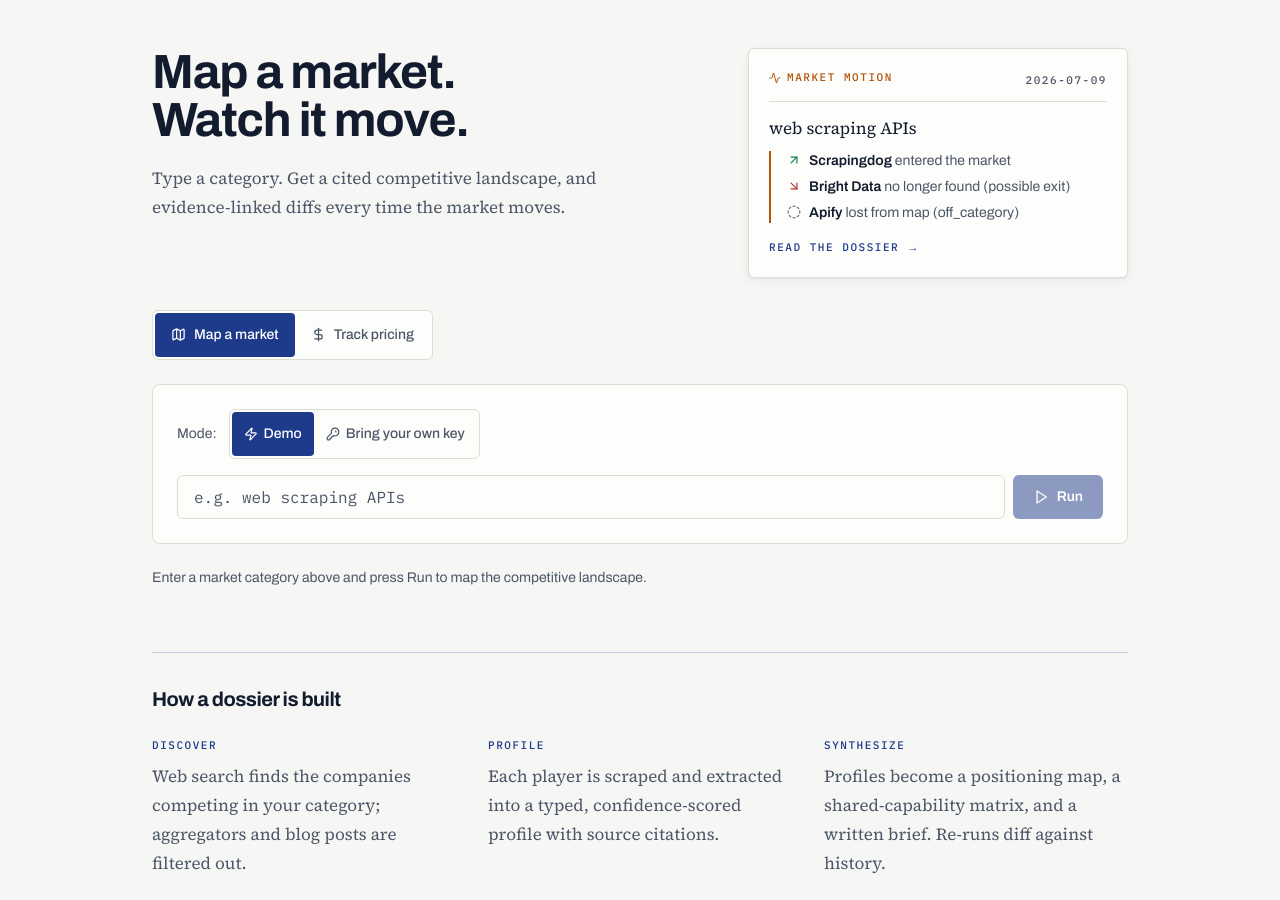
Test case: Page — Map a market mode › shows cap message and BYO/context.dev CTA on 429 demo_cap_reached
Type "web scraping APIs" into the field with placeholder "e.g. web scraping APIs".
click(591, 497); type("web scraping APIs")  # box [177,475,1005,519]
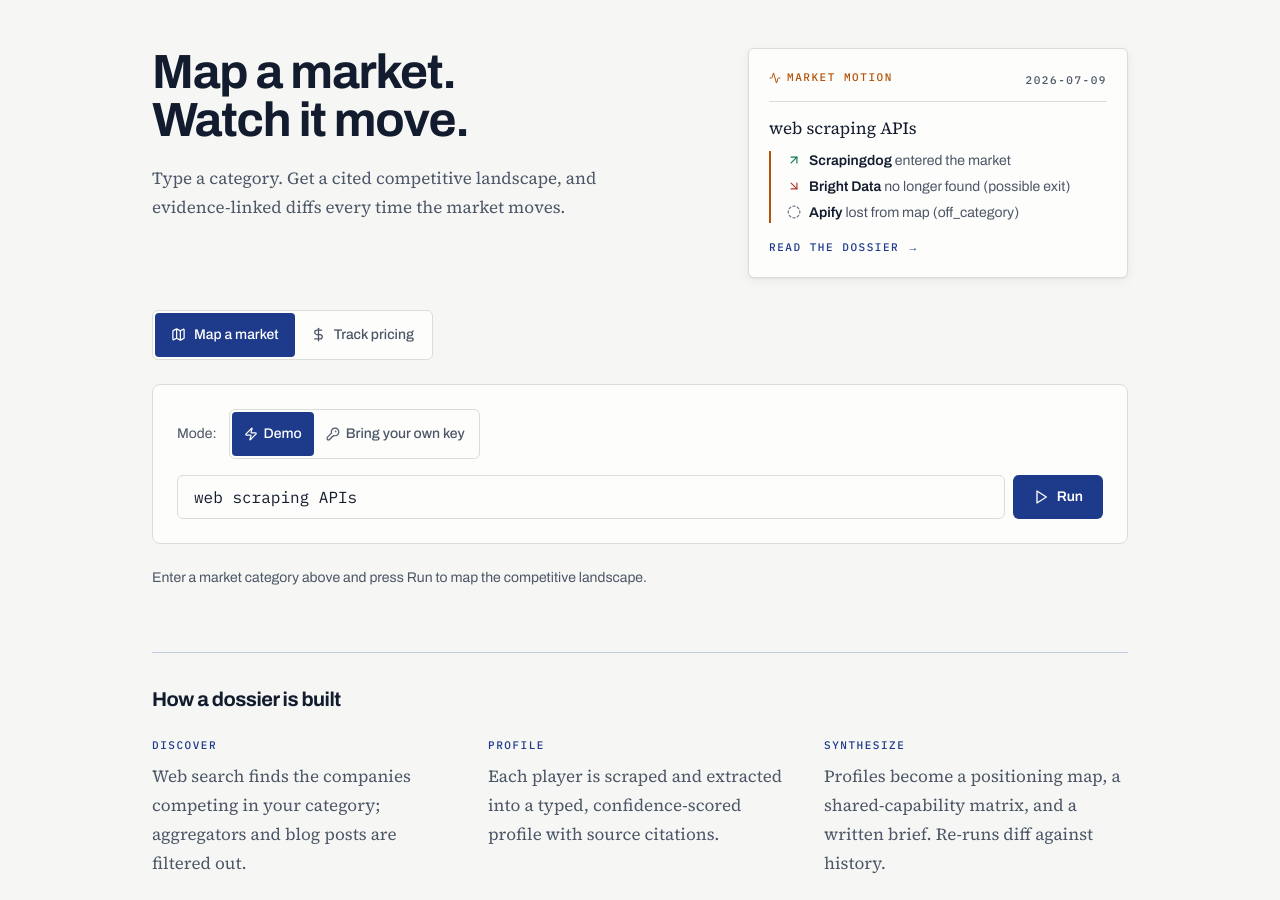
Click the button "Run".
click(1058, 497)  # box [1013,475,1103,519]
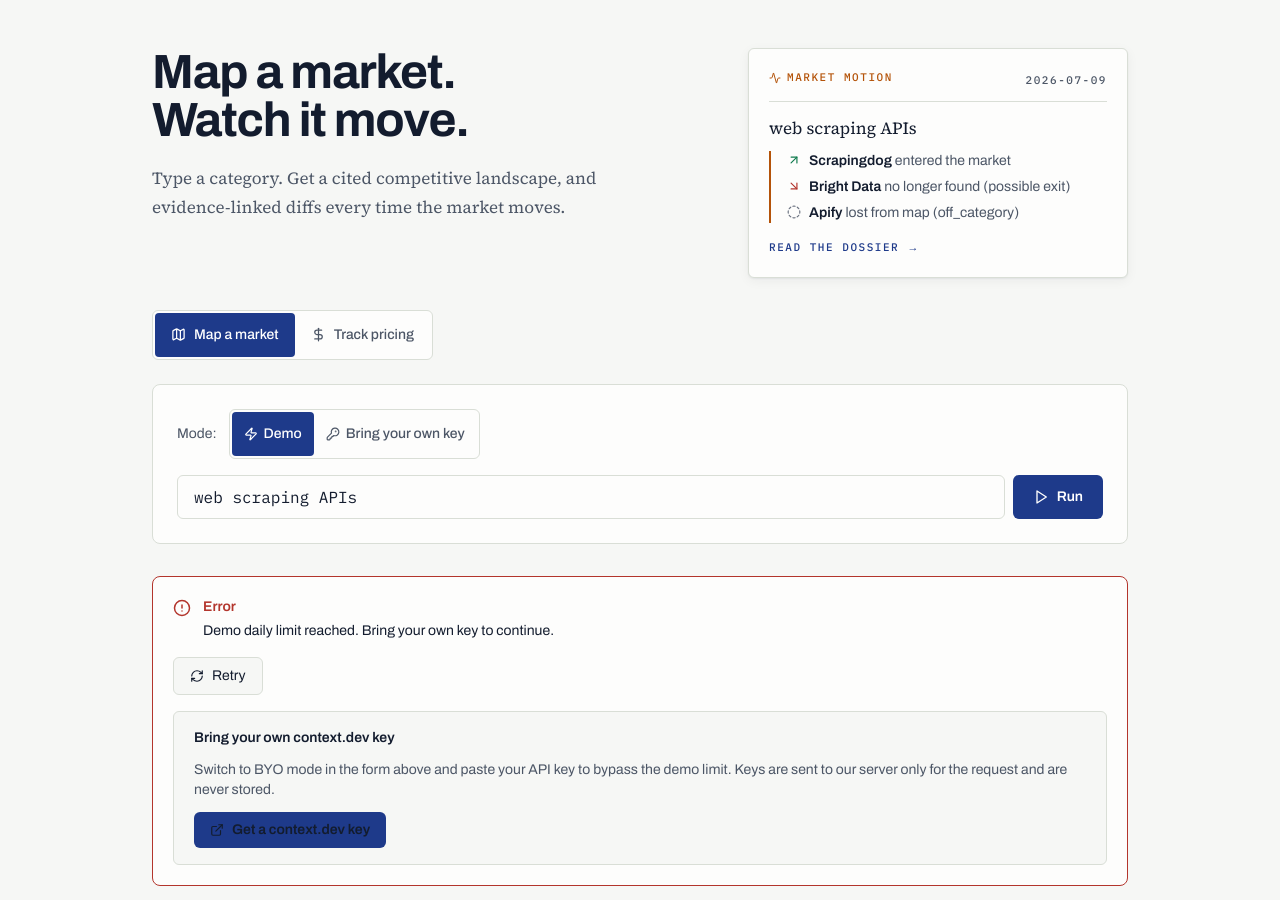
Check: the message is shown, box [152,576,1128,886]
Check: the text "Demo daily limit reached. Bring your own key to continue." is shown, box [203,623,554,638]
Check: the element with test id "cap-byo-cta" is shown, box [173,711,1107,865]
